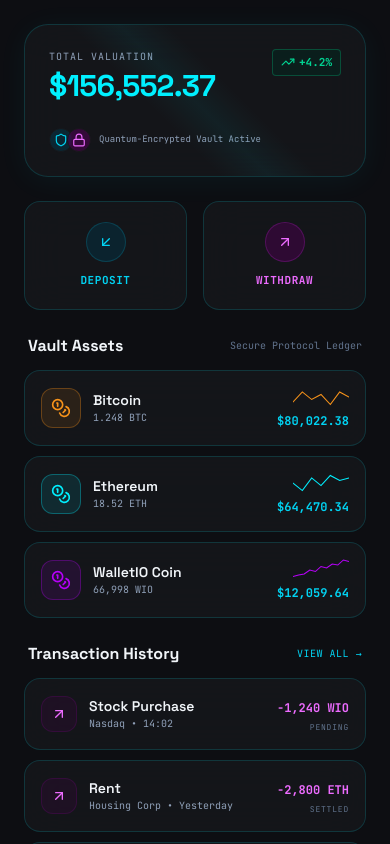
CryptoVault › deposits increase the asset balance
Click the button "DEPOSIT": (106, 255) [24,201,187,310]
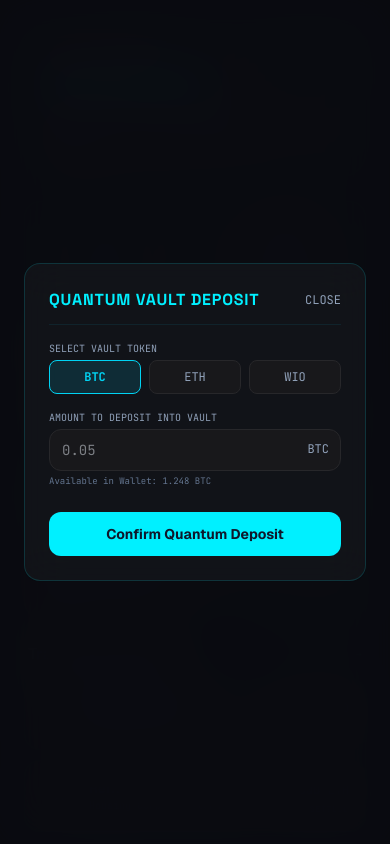
In the number field with placeholder "0.05": (195, 450) [49,429,341,471], type "0.5"
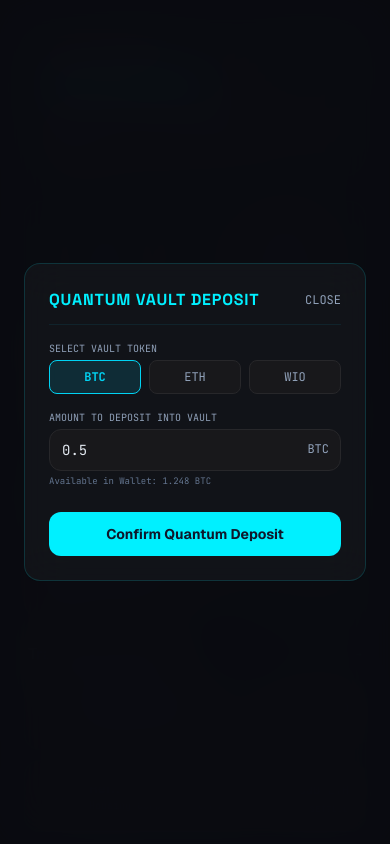
Click the button "Confirm Quantum Deposit": (195, 534) [49,512,341,556]
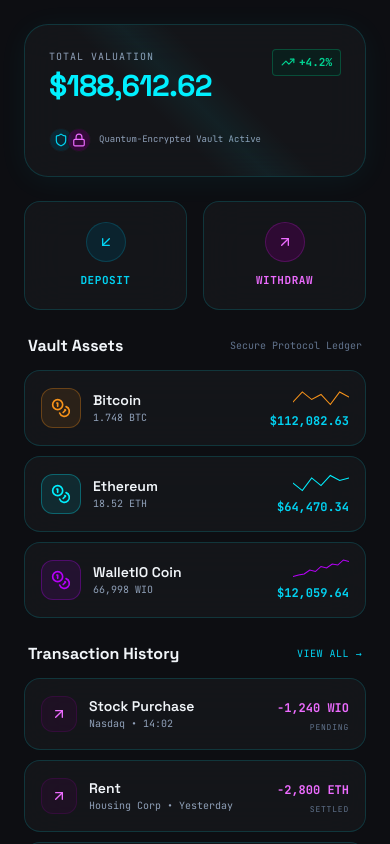
Expected: the text "1.748 BTC" is shown, [93,410,147,425]
